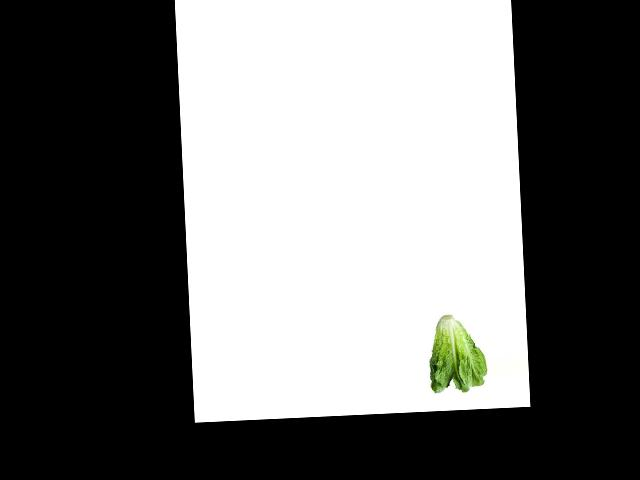lettuce: (425, 311, 487, 393)
